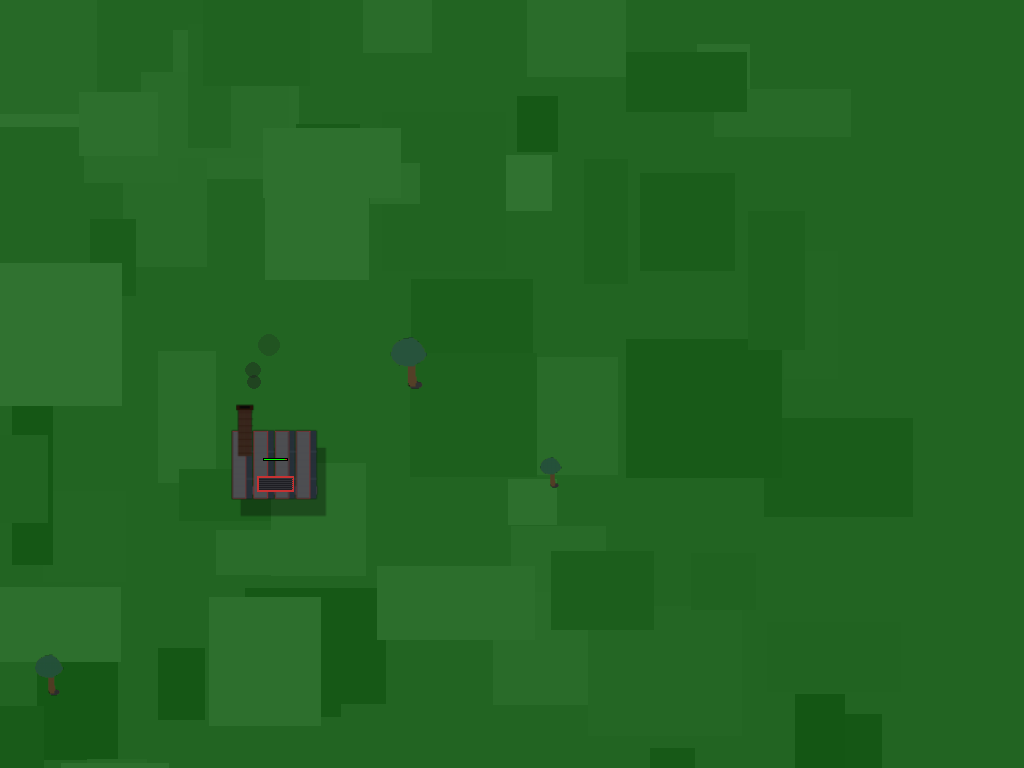AntiAirTurret: (218, 400, 331, 513)
